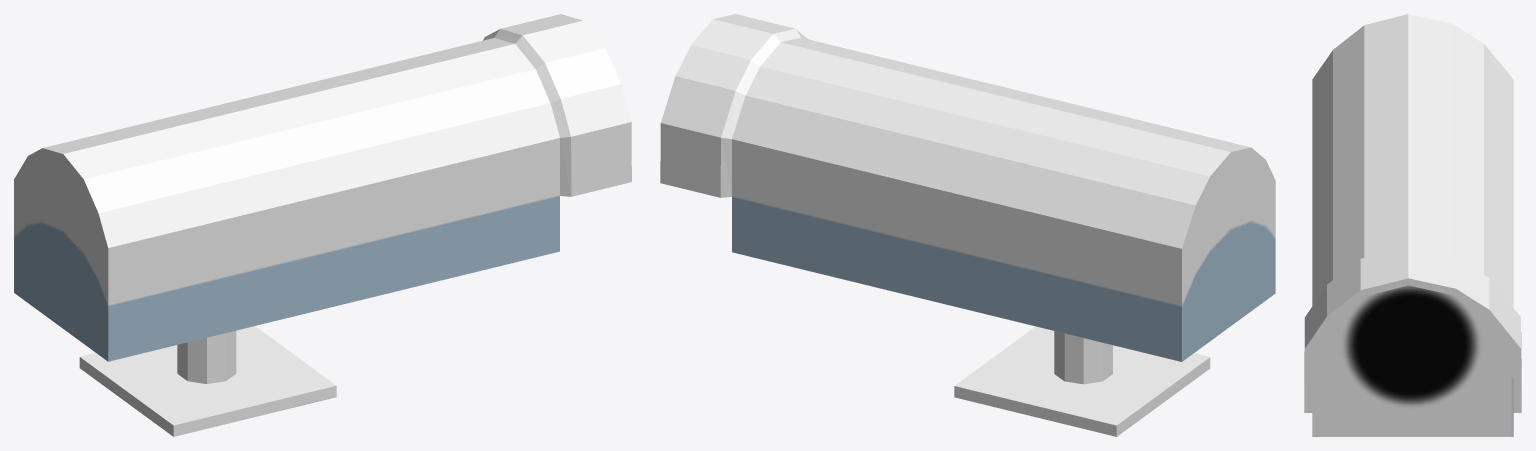
Rendered from telecamera.fbx.
3 renders of one model, left to right at view 1: azimuth 30°, elevation 25°; view 2: azimuth 150°, elevation 25°; view 3: azimuth 270°, elevation 25°, orthographic. The views are drawn at different scales.
Visible parts, largest first — view 1: telecamere; view 2: telecamere; view 3: telecamere.
Part boxes in pixels (x1=…): telecamere: x1=14, y1=14, x2=631, y2=436; telecamere: x1=660, y1=14, x2=1275, y2=436; telecamere: x1=1304, y1=14, x2=1521, y2=436.
Size of the model in its own units: 0.0319 by 0.016 by 0.0108.
Materials: 1 (1 with a texture image).
